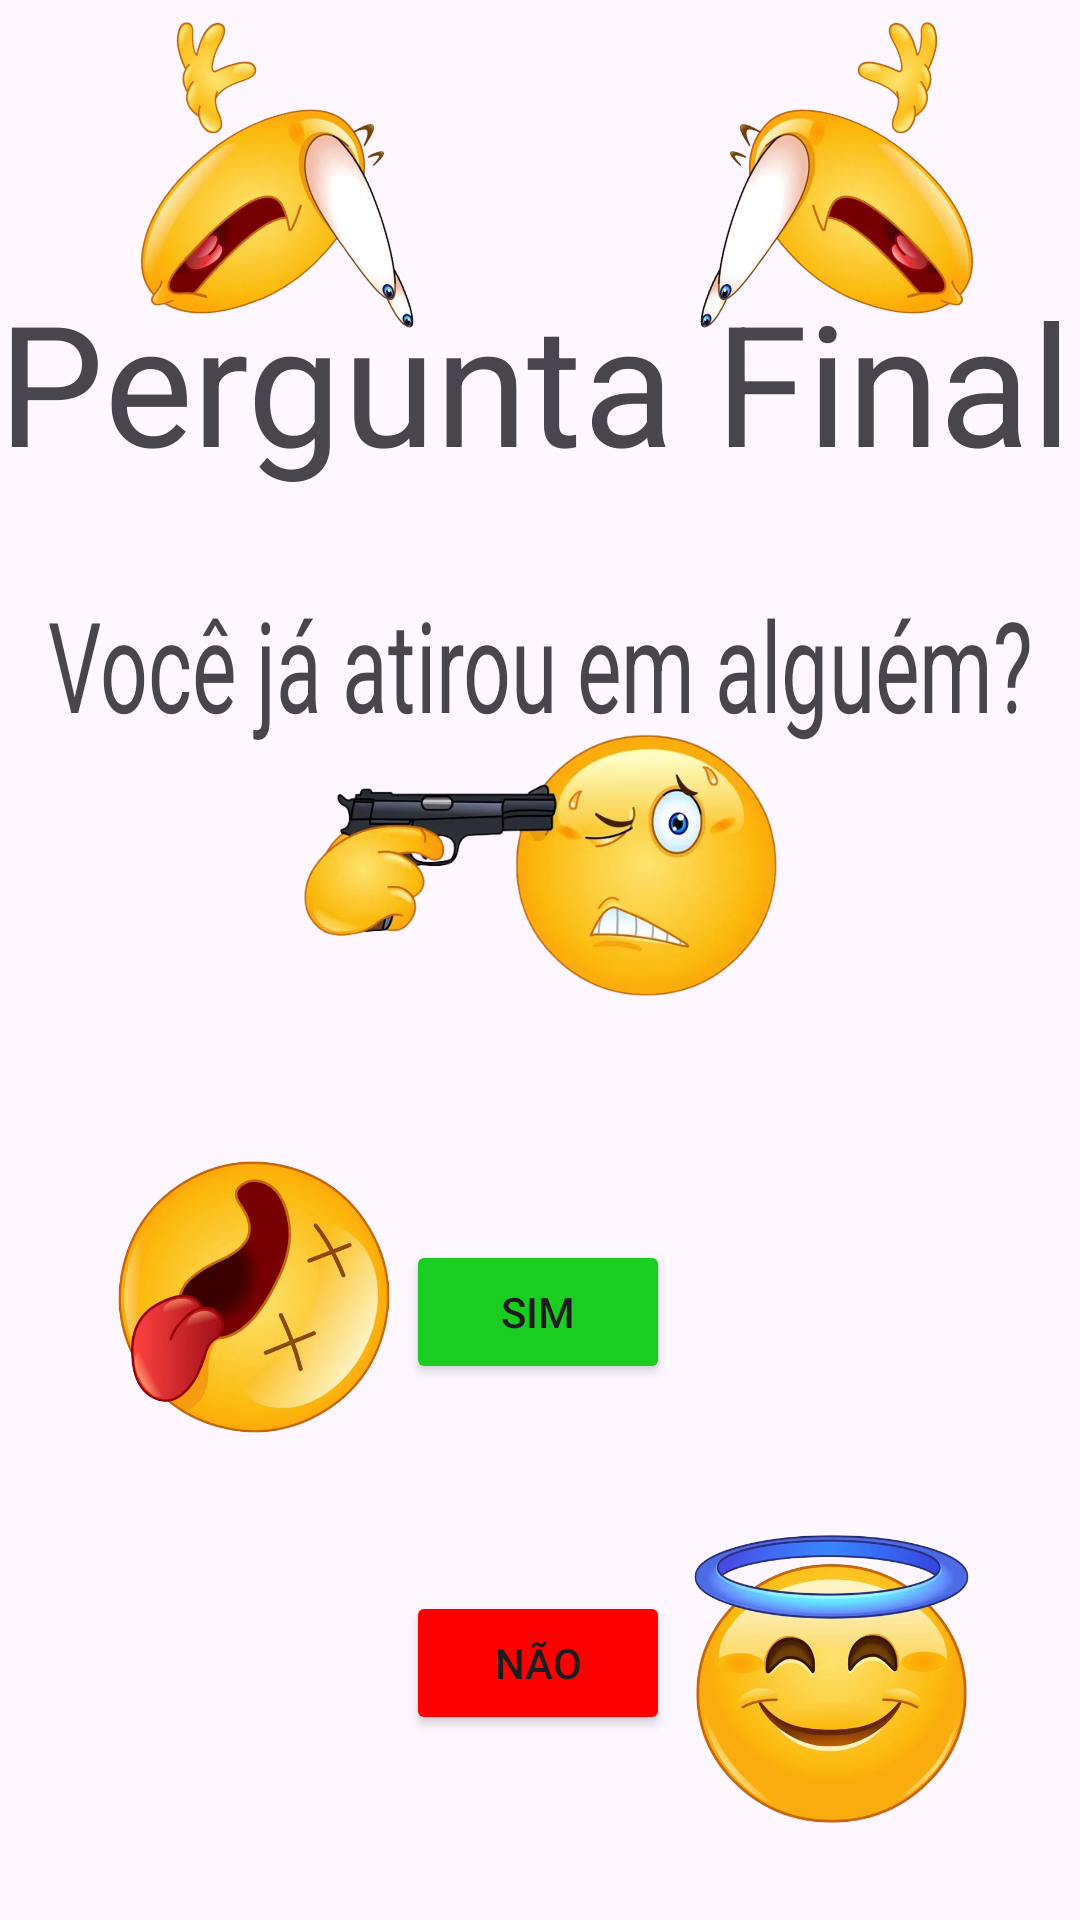

Screen size 1080x1920. Icon name, then its center in pixels as (x=x, y=y):
anjo: (x=831, y=1679)
morreu: (x=254, y=1297)
